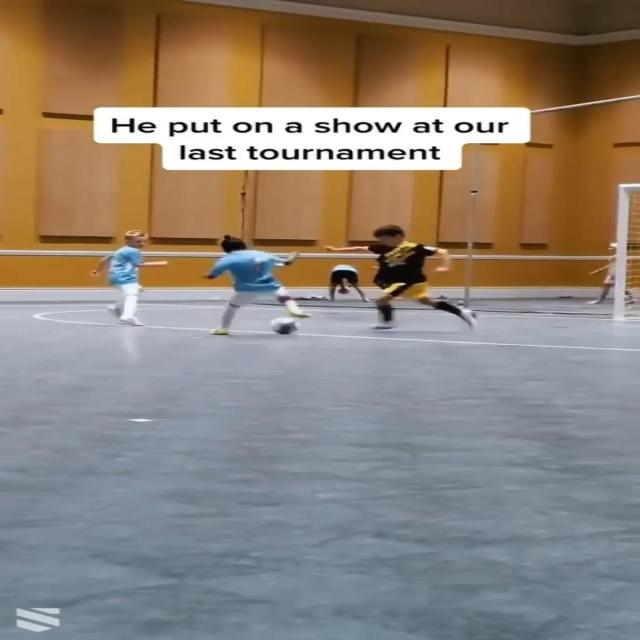ball: (270, 317, 300, 335)
